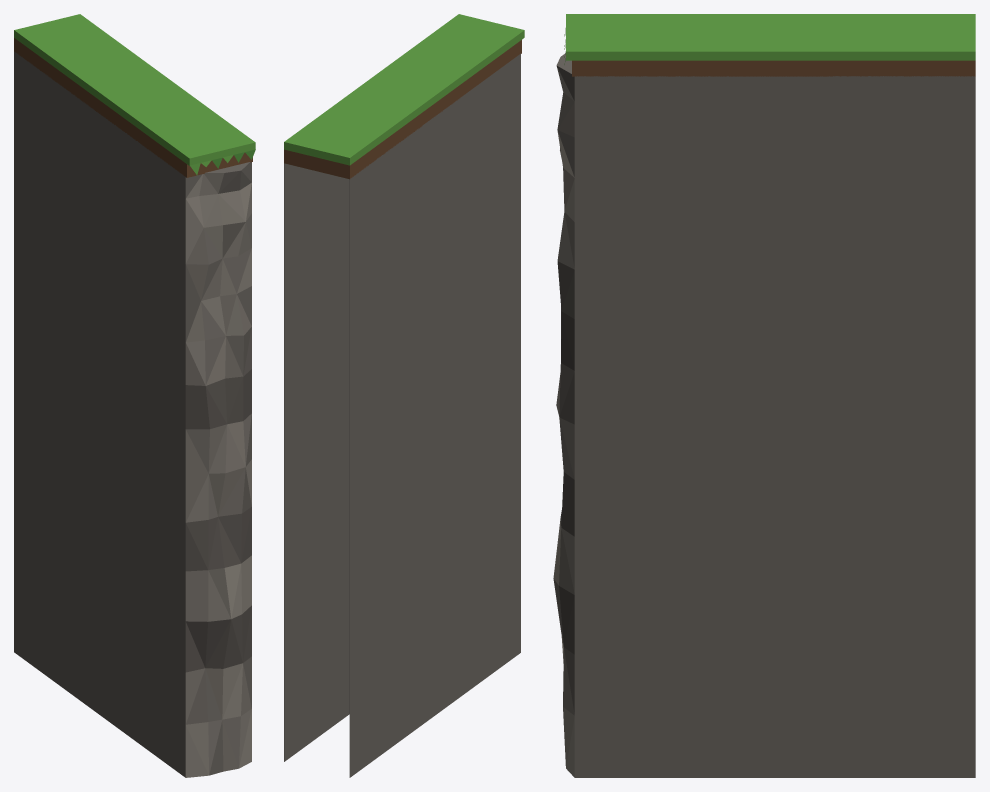
Rendered from ground_b.glb.
3 renders of one model, left to right at view 1: azimuth 30°, elevation 25°; view 2: azimuth 150°, elevation 25°; view 3: azimuth 270°, elevation 25°, orthographic. The views are drawn at different scales.
Visible parts, largest first — view 1: ground_mesh; view 2: ground_mesh; view 3: ground_mesh.
Boxes of the visible parts, box(x1,y1,x2,y2) form: ground_mesh: box(14, 14, 255, 777); ground_mesh: box(284, 14, 524, 777); ground_mesh: box(553, 14, 975, 777).
Size of the model in its own units: 2 by 18 by 9.48.
